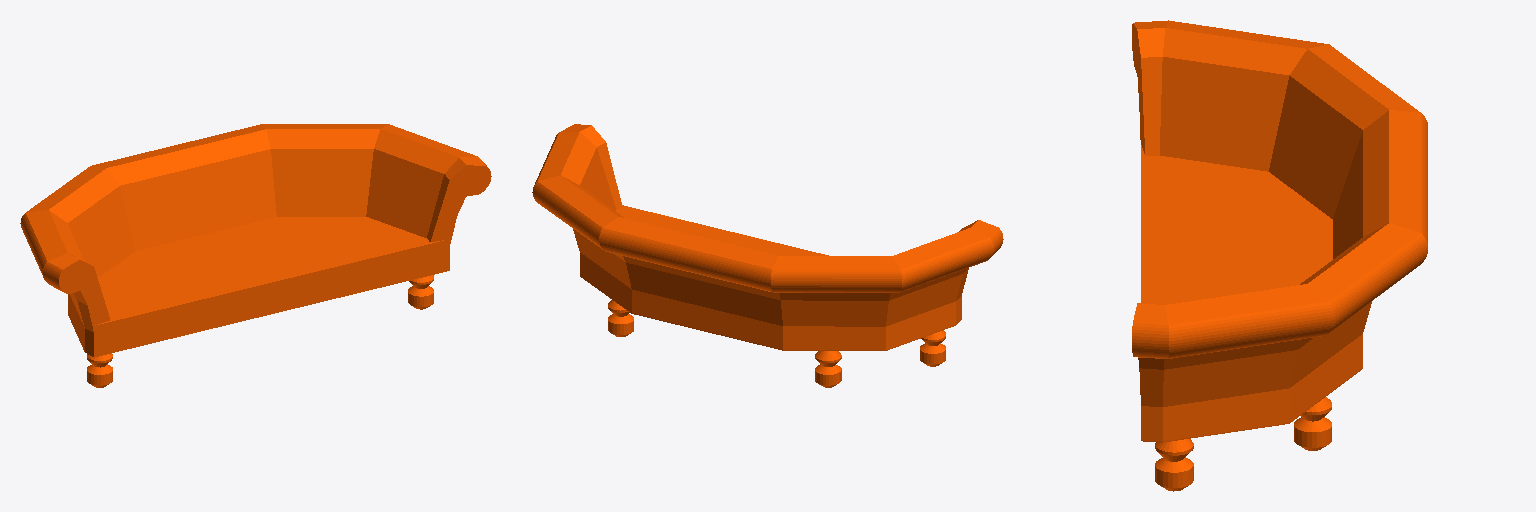
robot.urdf — Couch_d01ce0f02e25fc2b42e1bb4fe264125f:
<?xml version="1.0" ?>
<robot name="Couch_d01ce0f02e25fc2b42e1bb4fe264125f">
   <material name="obj_color">
      <color rgba="1.0 0.423529411765 0.0392156862745 1.0"/>
   </material>
   <link name="top">
      <inertial>
         <origin rpy="0.0003569415175678763 0.00130843948113079 0.001366298850014633" xyz="-0.0009967373329066648 -0.00927419894938002 -0.003546656725593168"/>
         <mass value="0.5671883611825426"/>
         <inertia ixx="0.0003569415175681397" ixy="-6.795460562909288e-11" ixz="5.099990405586993e-10" iyy="0.001317374377872837" iyz="-2.090777622668081e-05" izz="0.001357363953272321"/>
      </inertial>
      <visual>
         <origin rpy="0 0 0" xyz="0 0 0"/>
         <geometry>
            <mesh filename="top_watertight_tiny.stl" scale="1 1 1"/>
         </geometry>
         <material name="obj_color"/>
      </visual>
      <collision>
         <origin rpy="0 0 0" xyz="0 0 0"/>
         <geometry>
            <mesh filename="top_watertight_tiny.obj" scale="1 1 1"/>
         </geometry>
      </collision>
   </link>
   <link name="bottom">
      <inertial>
         <origin rpy="1.633333333199431e-08 1.633333333199431e-08 1.633333333362855e-08" xyz="0.3464080000000008 0.3464080000000008 0.3464080000000008"/>
         <mass value="0.0009800000000000017"/>
         <inertia ixx="1.633333333253906e-08" ixy="5.447480642029219e-19" ixz="5.447480642029219e-19" iyy="1.633333333253906e-08" iyz="5.447480642029219e-19" izz="1.633333333253906e-08"/>
      </inertial>
      <visual>
         <origin rpy="0 0 0" xyz="0 0 0"/>
         <geometry>
            <mesh filename="bottom_watertight_tiny.stl" scale="1 1 1"/>
         </geometry>
         <material name="obj_color"/>
      </visual>
   </link>
   <link name="world"/>
   <joint name="world_to_base" type="fixed">
      <origin xyz="0 0 0"/>
      <axis xyz="0 0 0"/>
      <parent link="world"/>
      <child link="bottom"/>
   </joint>
   <joint name="rotation" type="revolute">
      <origin xyz="0 0 0"/>
      <axis xyz="0 0 -1"/>
      <parent link="bottom"/>
      <child link="top"/>
      <dynamics damping="1.0" friction="1.0"/>
      <limit effort="0.1" velocity="0.1" lower="0" upper="0.001"/>
   </joint>
</robot>

--- Render facts (derived) ---
3 views of the same robot in one strip: view 1: azimuth 30°, elevation 25°; view 2: azimuth 150°, elevation 25°; view 3: azimuth 270°, elevation 25° (orthographic).
Model Couch_d01ce0f02e25fc2b42e1bb4fe264125f with 3 links and 2 joints (1 revolute, 1 fixed), rooted at world, posed all joints at 0.
Links seen in each view (by area): view 1: top; view 2: top; view 3: top.
Boxes of the visible links, x1=… form: top: x1=20, y1=124, x2=491, y2=387; top: x1=532, y1=124, x2=1003, y2=387; top: x1=1132, y1=20, x2=1427, y2=491.
Size in the robot's own frame: 0.1935 by 0.078 by 0.0602 metres.
Meshes: 2 distinct files referenced, 1 mesh visuals loaded (1 binary STL); not drawn: 1 (reference not matched to a file when rendering).
